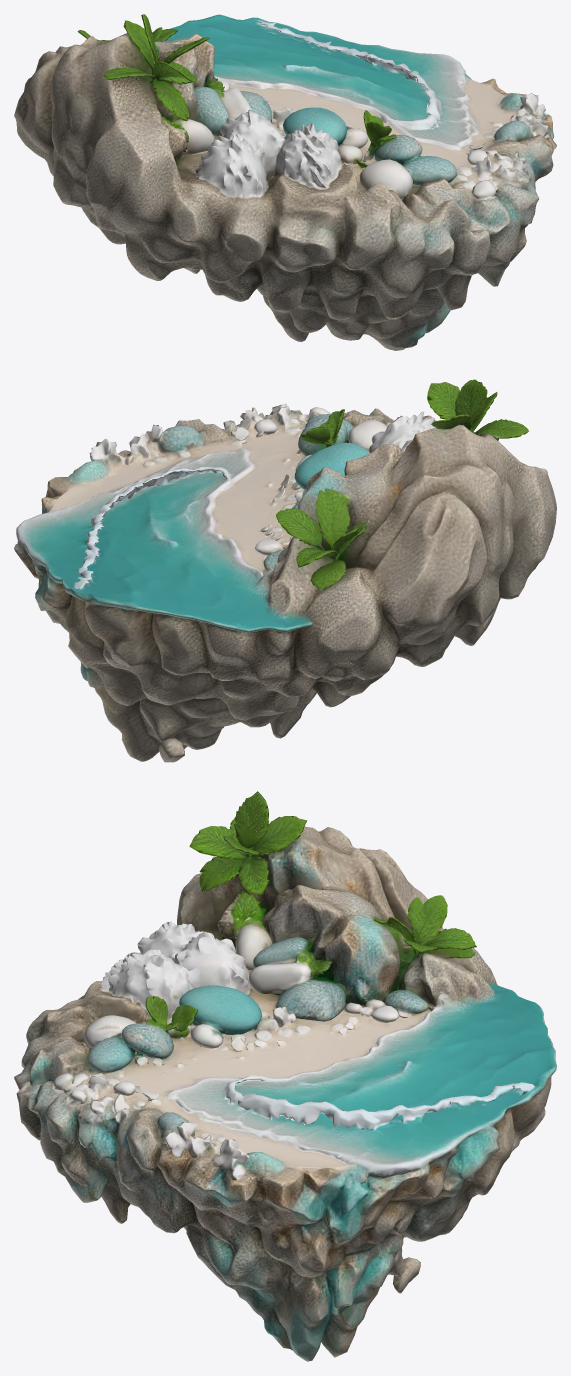
The model's file is isl-coastal.glb.
The picture shows the model from 3 angles, top to bottom: view 1: azimuth 30°, elevation 25°; view 2: azimuth 150°, elevation 25°; view 3: azimuth 270°, elevation 25°; orthographic projection.
Parts seen in each view (by area): view 1: tripo_node_c5d4ca86-1f25-4c1d-a54b-b6240709c83b; view 2: tripo_node_c5d4ca86-1f25-4c1d-a54b-b6240709c83b; view 3: tripo_node_c5d4ca86-1f25-4c1d-a54b-b6240709c83b.
Boxes of the visible parts, x1=… form: tripo_node_c5d4ca86-1f25-4c1d-a54b-b6240709c83b: x1=14, y1=14, x2=556, y2=350; tripo_node_c5d4ca86-1f25-4c1d-a54b-b6240709c83b: x1=14, y1=379, x2=556, y2=762; tripo_node_c5d4ca86-1f25-4c1d-a54b-b6240709c83b: x1=14, y1=791, x2=556, y2=1361.
Bounding box in the file's own units: 0.9828 × 0.8356 × 0.9697.
1 material, 1 textured.
